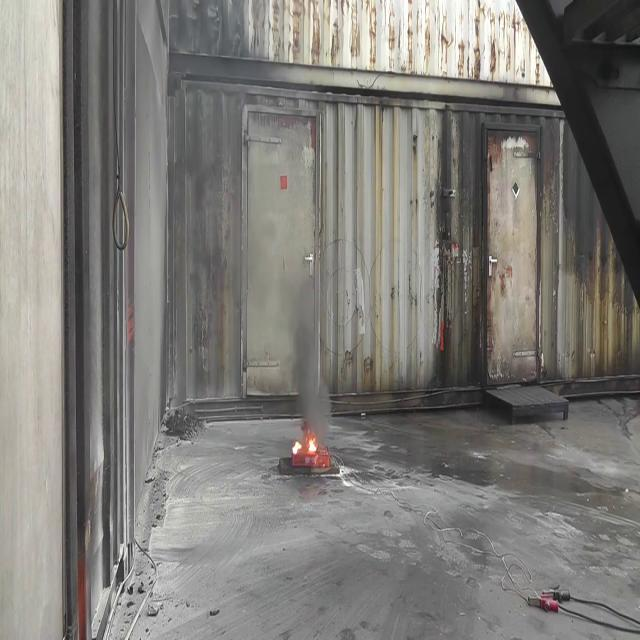Fire: (290, 426, 325, 464)
Smoke: (272, 238, 338, 427)
